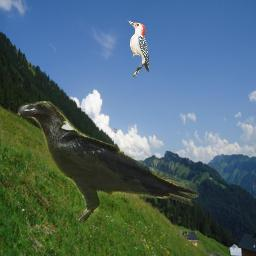Crow: (15, 101, 200, 226)
Woodpecker: (126, 20, 149, 79)
